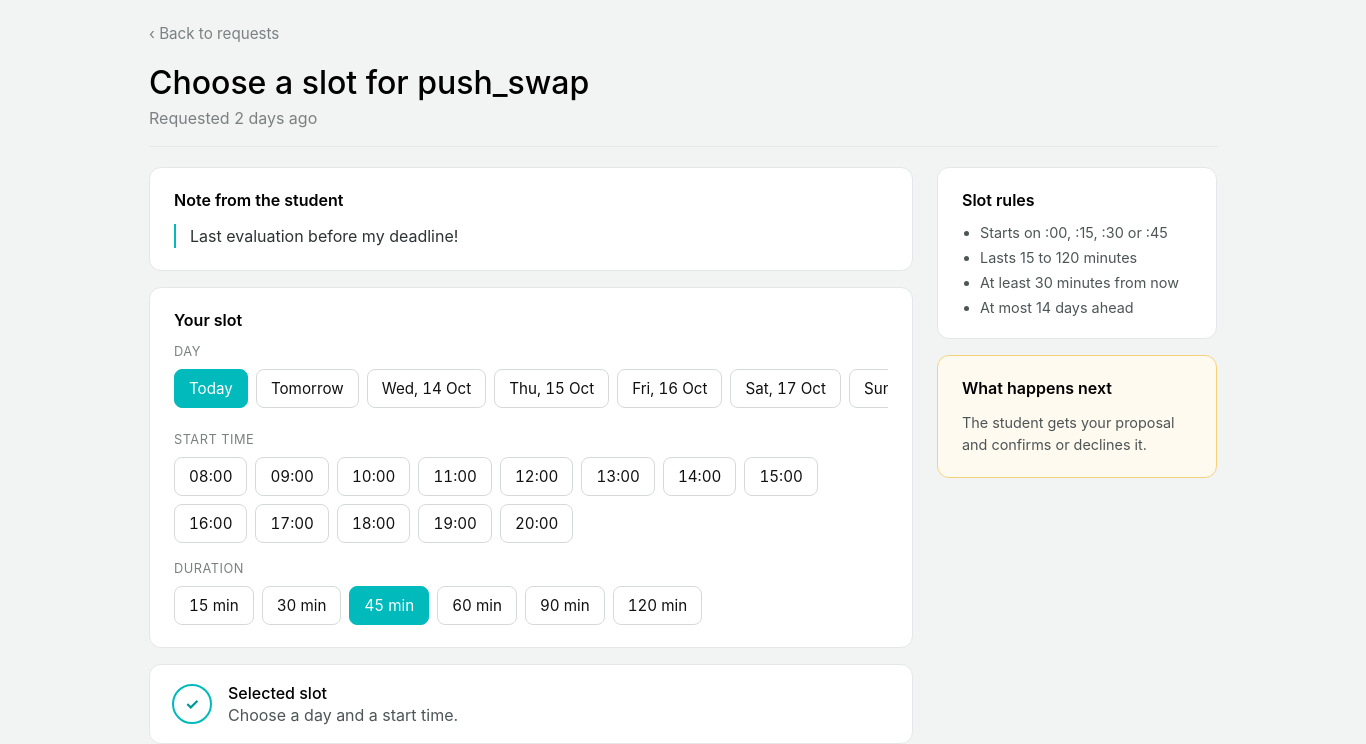
Test: PickSlotPage › disables start times less than 30 minutes ahead
Check: the heading "Choose a slot for push_swap" is shown, box x1=149 y1=63 x2=589 y2=102
What coordinates should you click on to do the following:
click the button "08:00"
I would click on:
 (211, 476)
Its box is x1=174 y1=457 x2=248 y2=496.
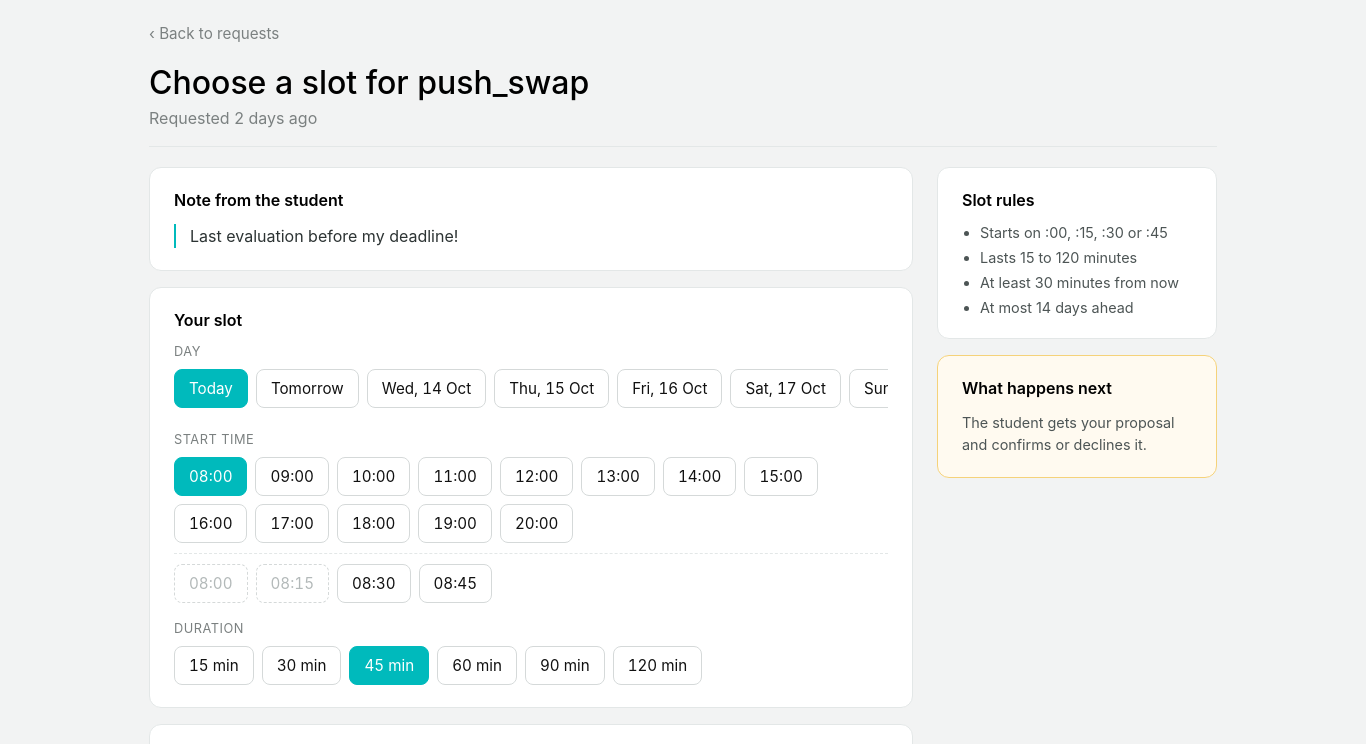
Check: the button "08:15" is disabled, box x1=256 y1=564 x2=329 y2=603
Check: the button "08:30" is enabled, box x1=337 y1=564 x2=410 y2=603
